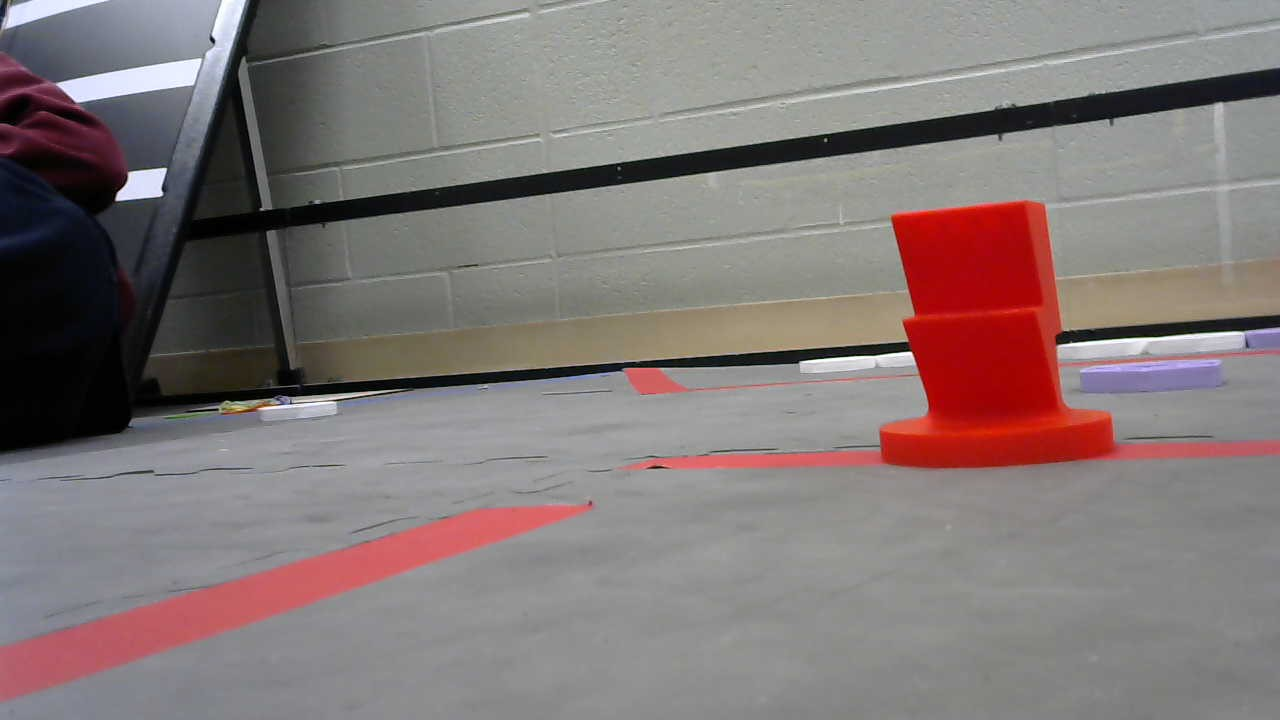redobject: (875, 200, 1116, 478)
